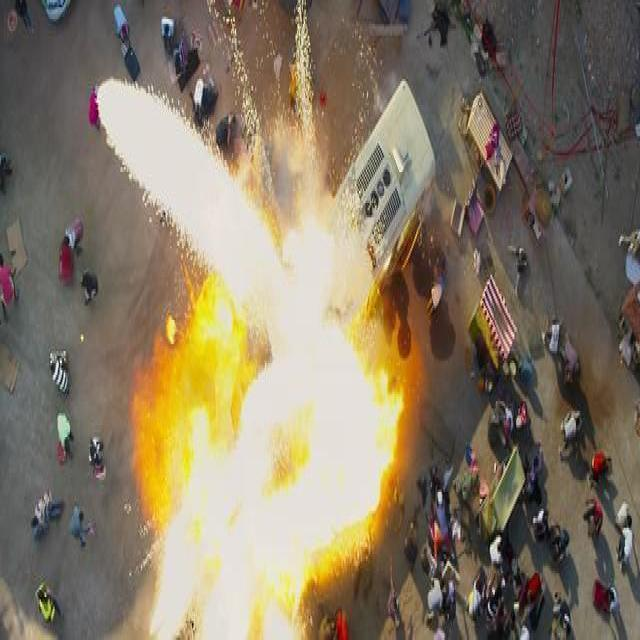fire: (97, 71, 401, 640)
